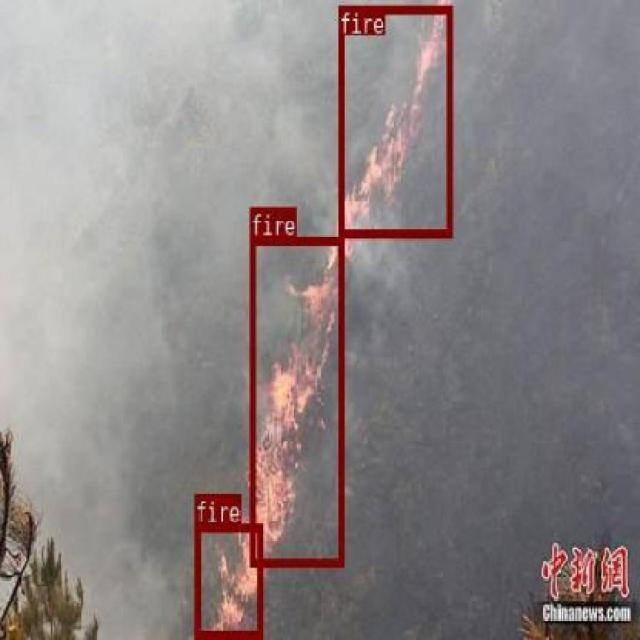Fire: (237, 270, 352, 555), (358, 50, 447, 245), (205, 522, 257, 633)
Smoke: (0, 0, 625, 640)
